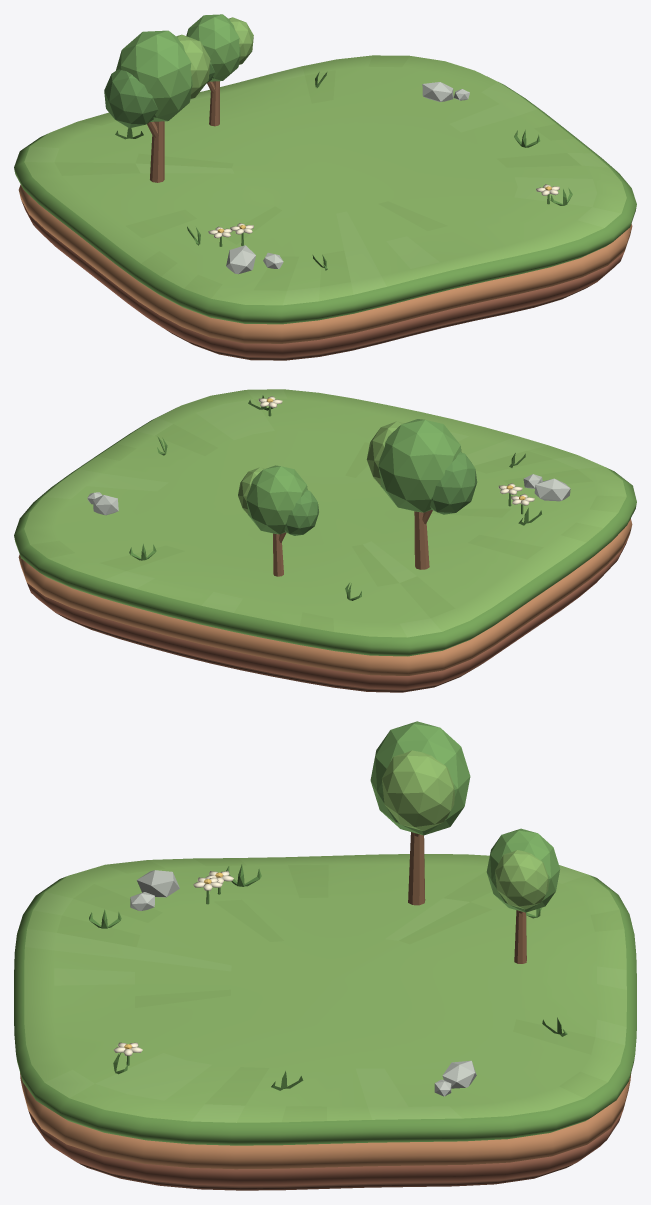
File: starter_jelly_island.glb
The picture shows the model from 3 angles, top to bottom: view 1: azimuth 30°, elevation 25°; view 2: azimuth 150°, elevation 25°; view 3: azimuth 270°, elevation 25°; orthographic projection. The views are drawn at different scales.
Parts seen in each view (by area): view 1: Grass_Top, Soil_Layer_Light, Soil_Layer_Dark, Tree_01, Tree_02, Island_Base, Tree_01_Trunk, Rock_01, Rock_03; view 2: Grass_Top, Soil_Layer_Light, Tree_01, Soil_Layer_Dark, Tree_02, Island_Base, Tree_01_Trunk, Rock_01, Tree_02_Trunk, Rock_03; view 3: Grass_Top, Soil_Layer_Light, Soil_Layer_Dark, Tree_01, Tree_02, Island_Base, Tree_01_Trunk, Rock_01, Rock_03.
Part boxes in pixels (box(x1,y1,x2,y2)): Grass_Top: box(14, 55, 636, 324); Soil_Layer_Light: box(18, 184, 632, 343); Soil_Layer_Dark: box(21, 201, 624, 357); Tree_01: box(104, 30, 210, 128); Tree_02: box(186, 14, 253, 83); Island_Base: box(167, 283, 594, 360); Tree_01_Trunk: box(147, 121, 164, 182); Rock_01: box(226, 245, 255, 274); Rock_03: box(422, 82, 453, 101); Grass_Top: box(14, 389, 636, 656); Soil_Layer_Light: box(18, 518, 632, 675); Tree_01: box(366, 419, 477, 514); Soil_Layer_Dark: box(27, 535, 629, 689); Tree_02: box(238, 465, 318, 535); Island_Base: box(56, 613, 484, 692); Tree_01_Trunk: box(414, 510, 432, 569); Rock_01: box(534, 478, 570, 501); Tree_02_Trunk: box(273, 532, 286, 576); Rock_03: box(93, 495, 118, 515); Grass_Top: box(14, 854, 636, 1145); Soil_Layer_Light: box(20, 1073, 631, 1169); Soil_Layer_Dark: box(28, 1110, 623, 1185); Tree_01: box(370, 721, 470, 835); Tree_02: box(486, 828, 560, 912); Island_Base: box(77, 1162, 575, 1190); Tree_01_Trunk: box(408, 832, 425, 905); Rock_01: box(137, 870, 179, 897); Rock_03: box(442, 1060, 476, 1088).
Size of the model in its own units: 9.09 by 4.19 by 8.69.
